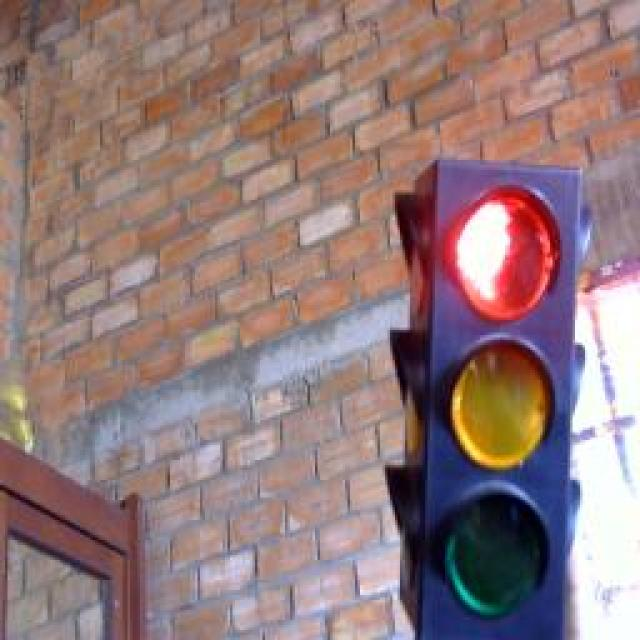-: (444, 172, 566, 330)
